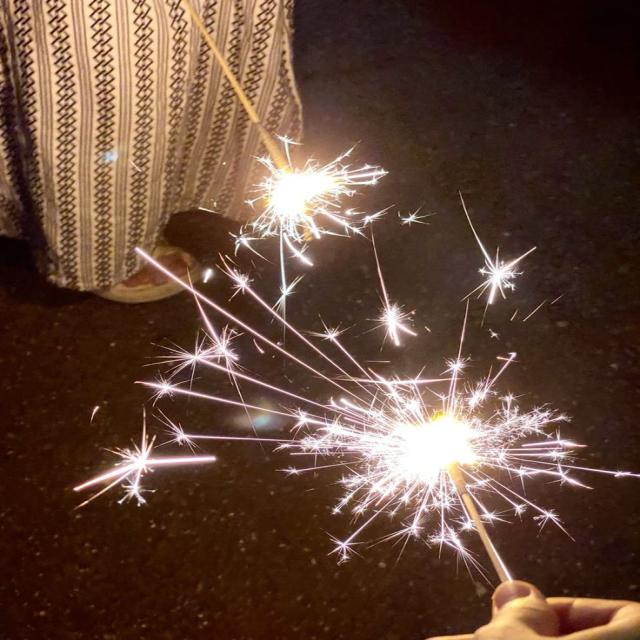fire: (388, 412, 488, 488), (268, 168, 339, 238)
